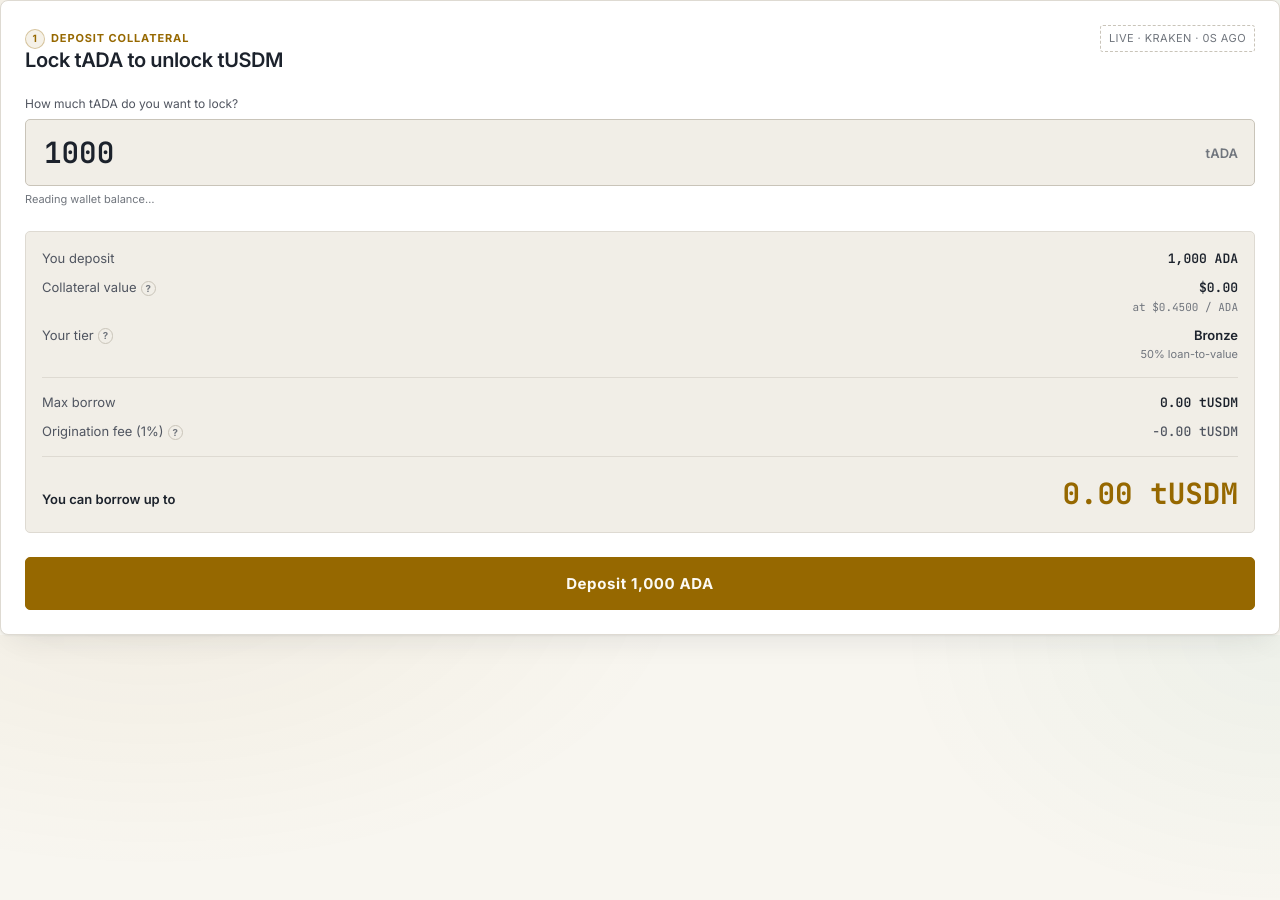
Scenario: BorrowPanel deposit review modal › signs, submits, and shows a success modal with the tx hash
Click the button "Deposit 1,000 ADA" at (640, 584), box [25, 557, 1255, 610]
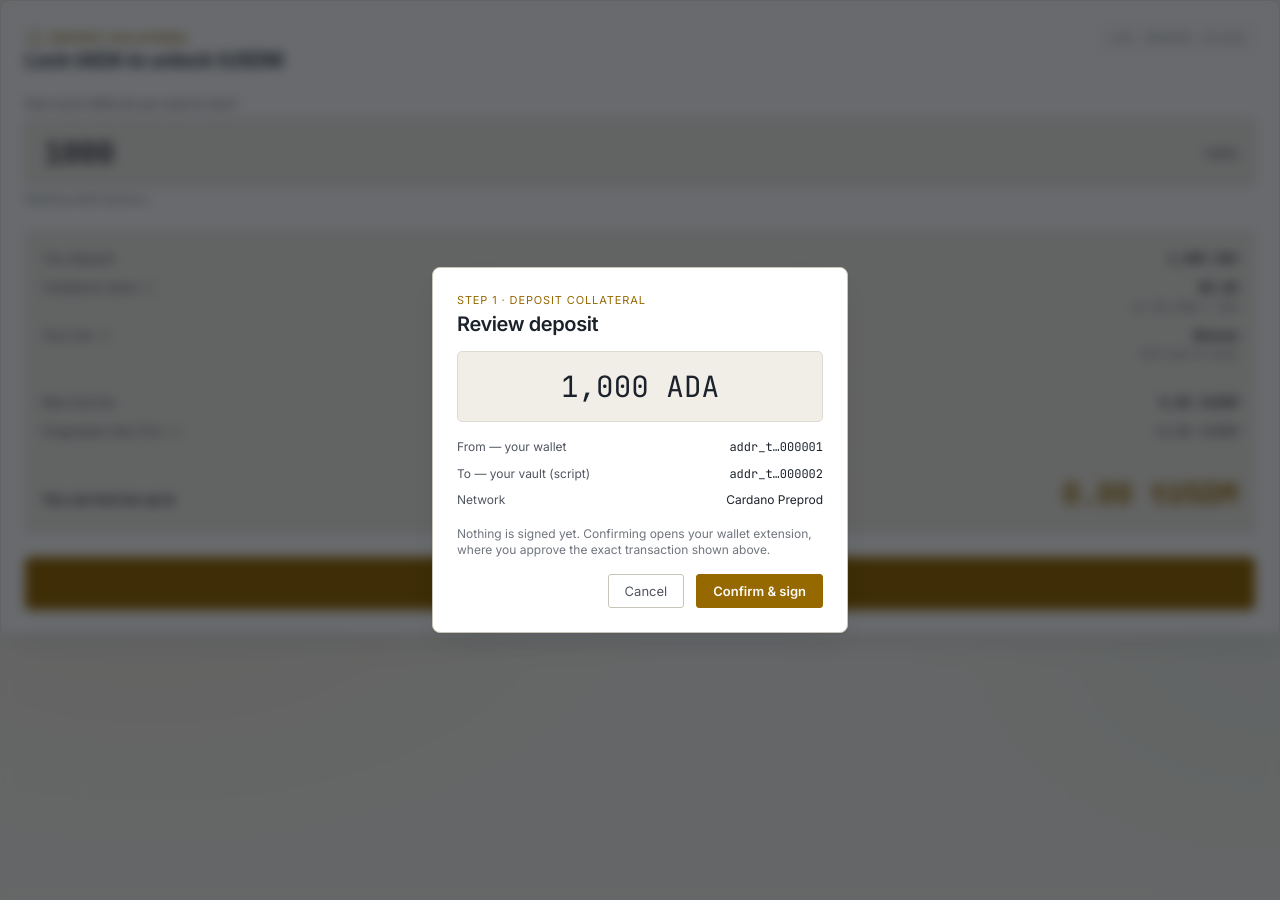
Click the button "Confirm & sign" at (760, 591), box [696, 574, 823, 608]
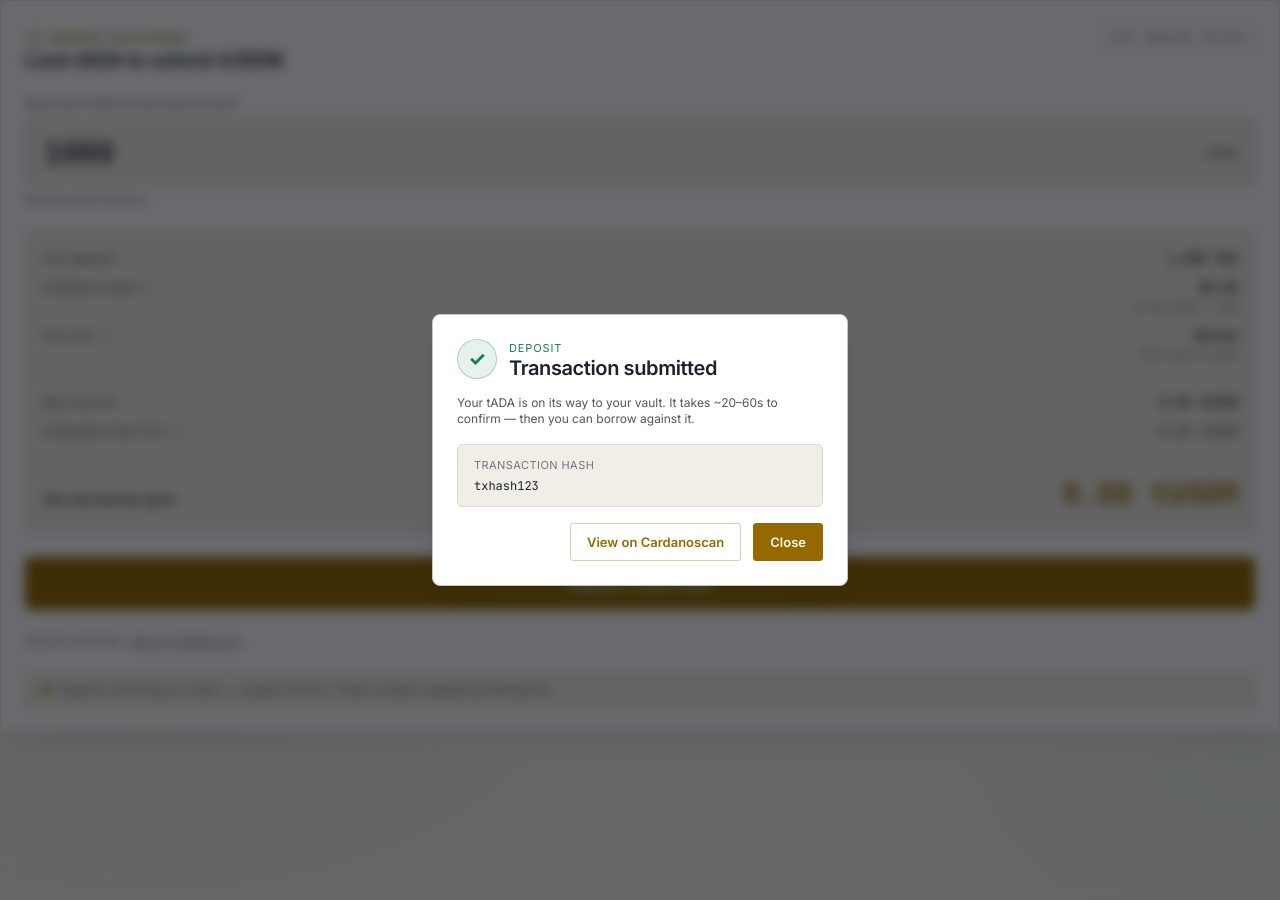
Expected: the dialog shows "Transaction submitted", [509, 356, 717, 380]
Expected: the dialog shows "txhash123", [474, 478, 539, 494]
Click the button "Close" at (788, 542), box [753, 523, 823, 561]
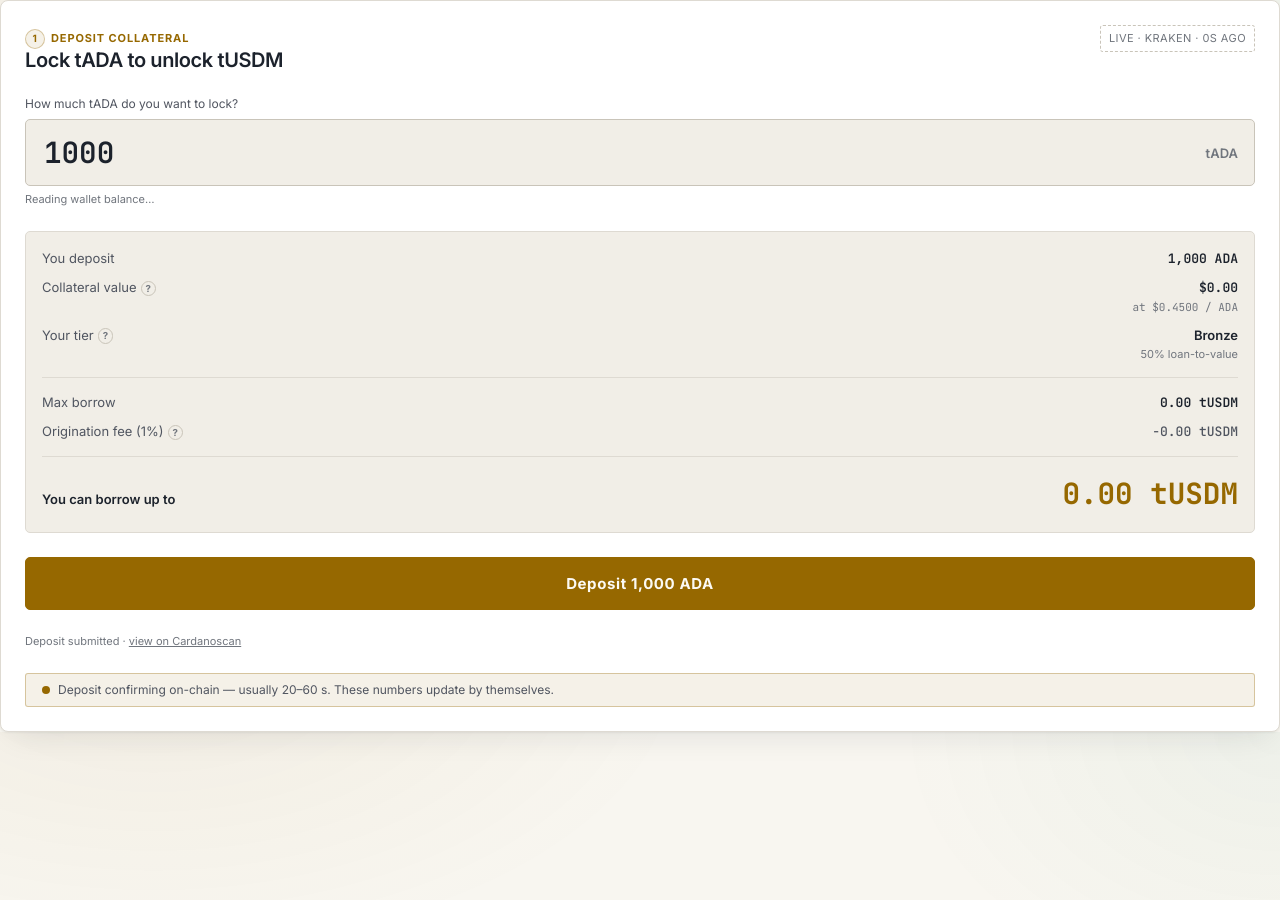
Expected: the dialog is gone
